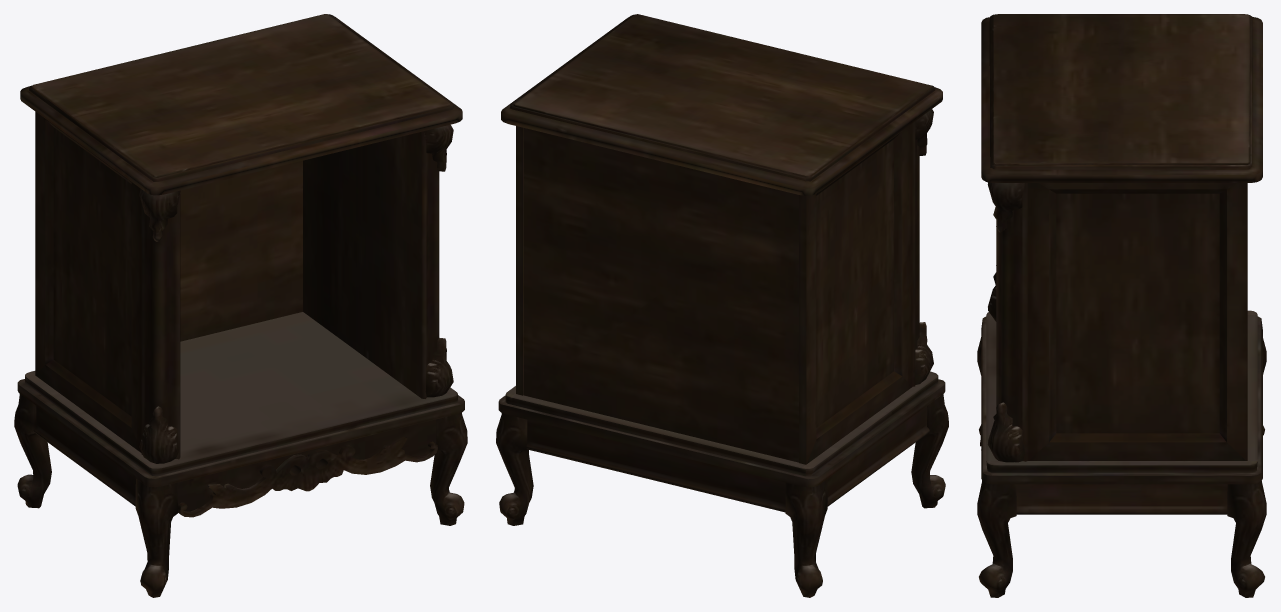
The model's file is nightstand.glb.
The picture shows the model from 3 angles, left to right: view 1: azimuth 30°, elevation 25°; view 2: azimuth 150°, elevation 25°; view 3: azimuth 270°, elevation 25°; orthographic projection. The views are drawn at different scales.
Visible parts, largest first — view 1: ClassicNightstand_01; view 2: ClassicNightstand_01; view 3: ClassicNightstand_01.
Boxes of the visible parts, x1,y1,x2,y2 form: ClassicNightstand_01: (14,14,467,597); ClassicNightstand_01: (496,14,948,597); ClassicNightstand_01: (977,14,1266,597).
Bounding box in the file's own units: 0.5678 × 0.7 × 0.4242.
1 material, 1 textured.
